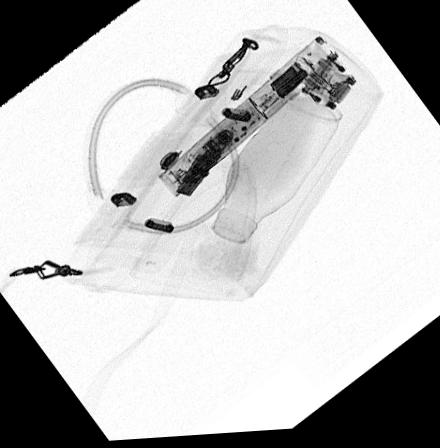Baton: (154, 37, 339, 202)
